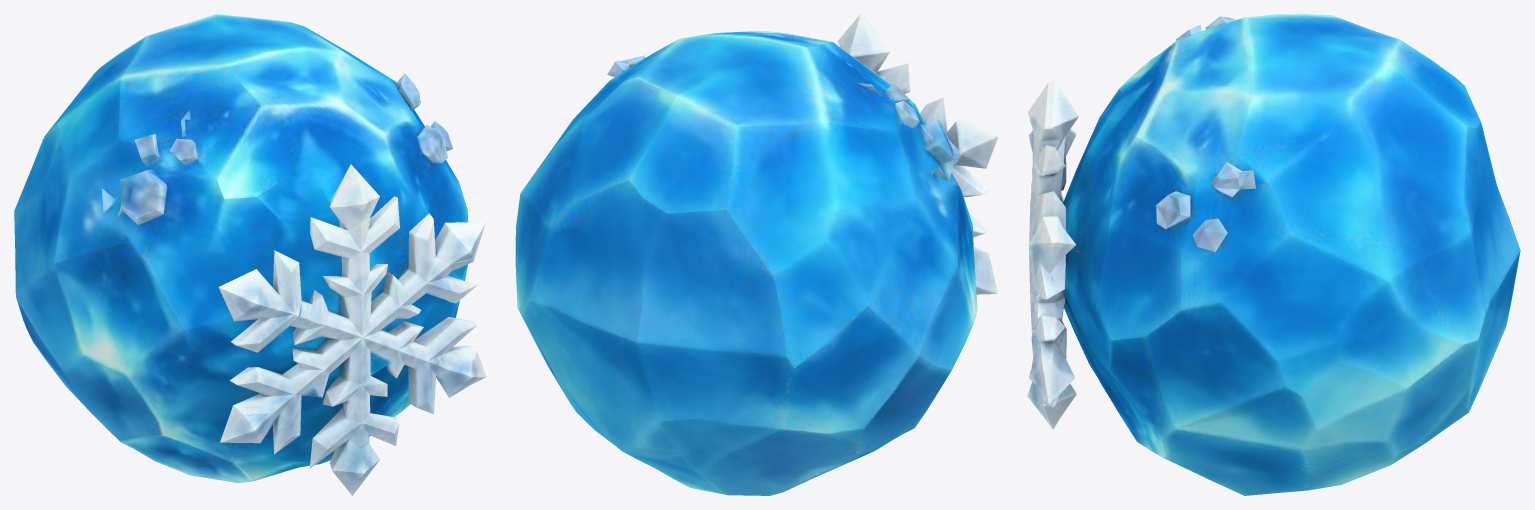
The model's file is freeze-orb.glb.
3 views of the same model, side by side, from view 1: azimuth 30°, elevation 25°; view 2: azimuth 150°, elevation 25°; view 3: azimuth 270°, elevation 25° (orthographic). The views are drawn at different scales.
Visible parts, largest first — view 1: model; view 2: model; view 3: model.
Part boxes in pixels (x1,y1,x2,y2): model: (14,14,486,495); model: (515,14,998,495); model: (1027,14,1520,495).
Size of the model in its own units: 1.06 by 1.08 by 1.1.
Materials: 1 (1 with a texture image).
